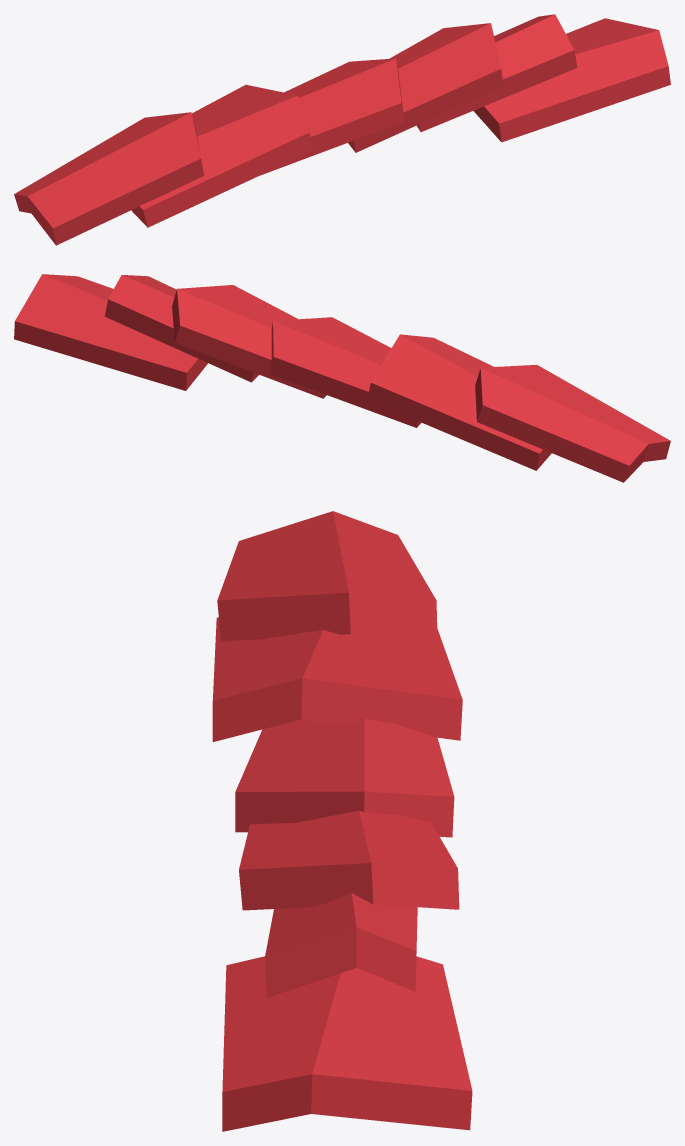
Rendered from Roof 01 Finish Top.fbx.
3 renders of one model, top to bottom at view 1: azimuth 30°, elevation 25°; view 2: azimuth 150°, elevation 25°; view 3: azimuth 270°, elevation 25°, orthographic. The views are drawn at different scales.
Visible parts, largest first — view 1: Roof 01 Finish Top; view 2: Roof 01 Finish Top; view 3: Roof 01 Finish Top.
Boxes of the visible parts, x1,y1,x2,y2 form: Roof 01 Finish Top: [14, 14, 670, 245]; Roof 01 Finish Top: [14, 274, 670, 482]; Roof 01 Finish Top: [212, 511, 472, 1131].
Size of the model in its own units: 404 by 52.65 by 74.04.
